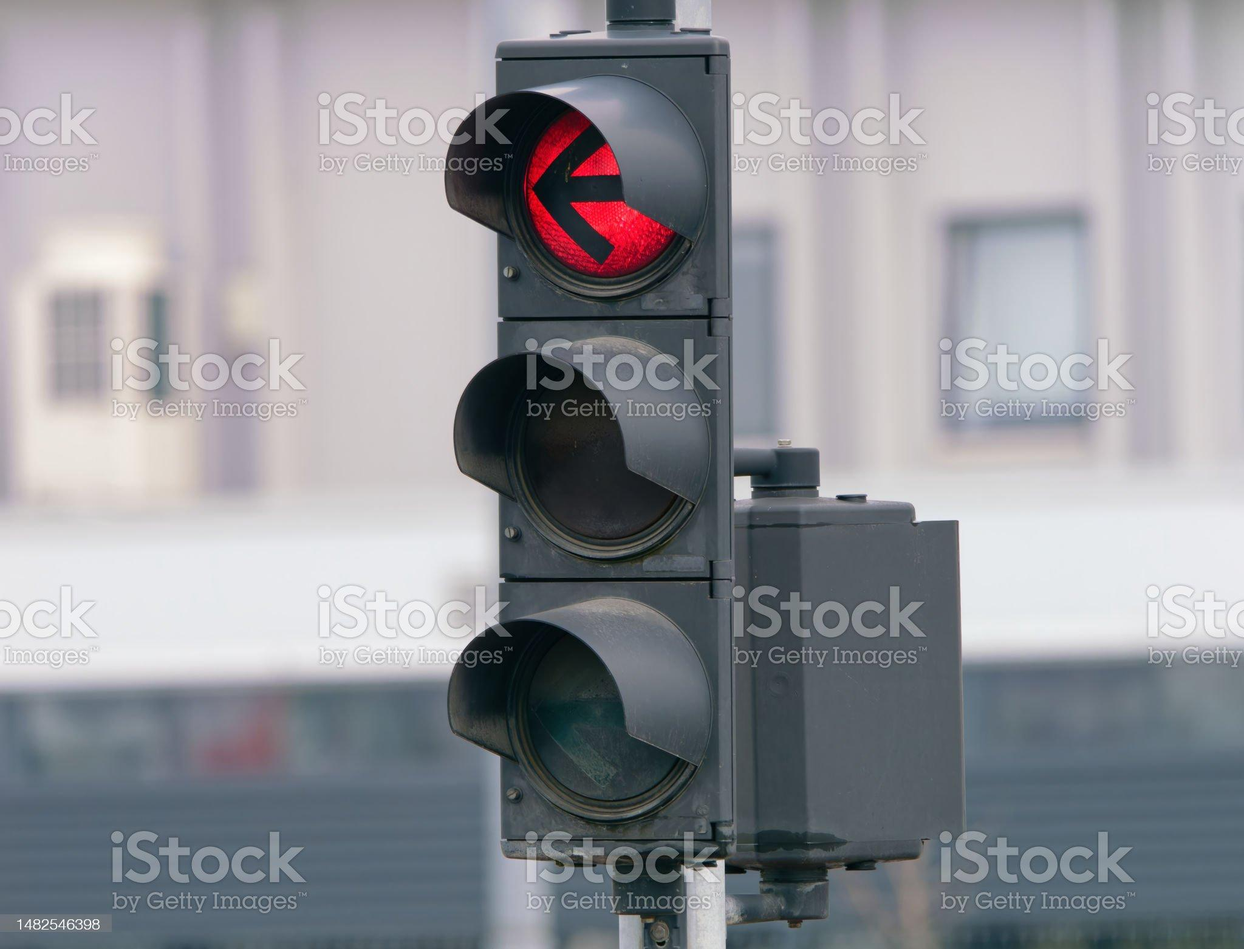red: (431, 22, 749, 883)
